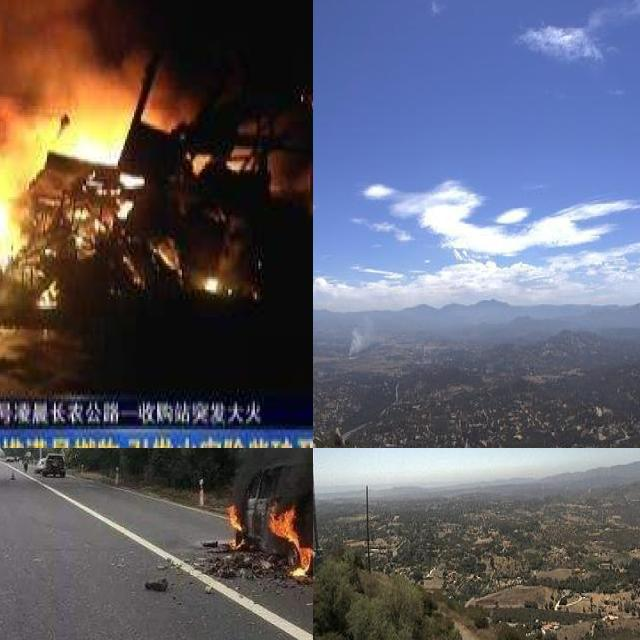fire: (228, 465, 313, 587), (49, 108, 164, 190)
smoke: (0, 0, 166, 126), (348, 312, 383, 359)
